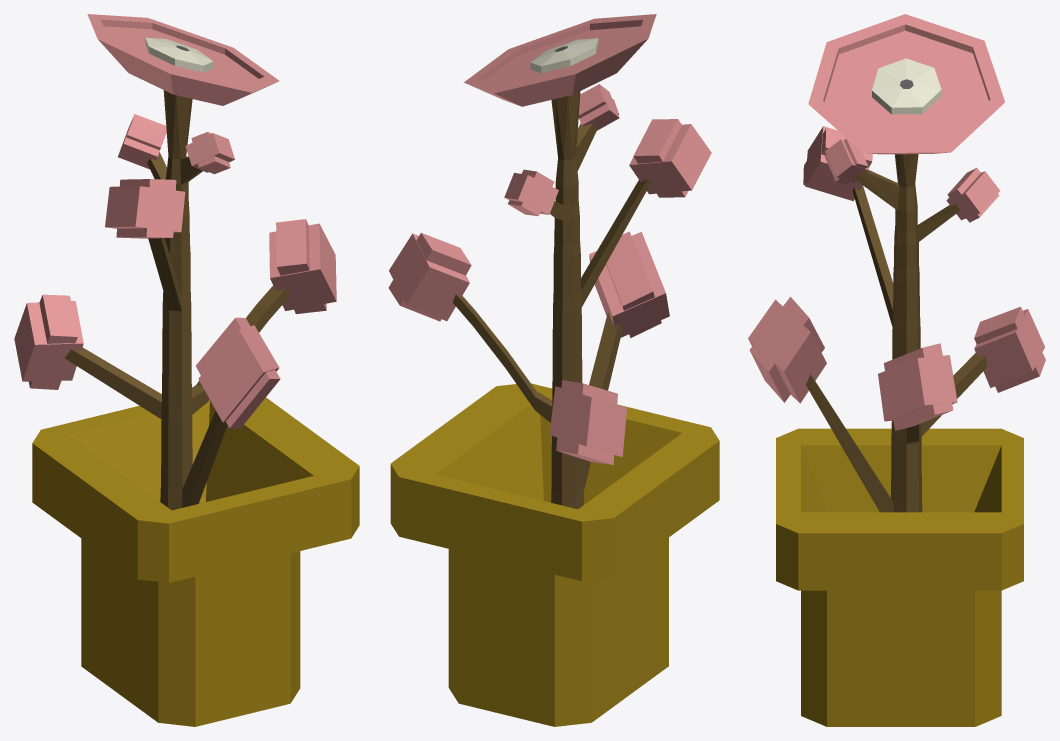
The model's file is Decoration_Plant.fbx.
3 renders of one model, left to right at view 1: azimuth 30°, elevation 25°; view 2: azimuth 150°, elevation 25°; view 3: azimuth 270°, elevation 25°, orthographic. The views are drawn at different scales.
Parts seen in each view (by area): view 1: pCube162; view 2: pCube162; view 3: pCube162.
Part boxes in pixels (x1,y1,x2,y2): pCube162: (14,14,359,726); pCube162: (388,14,719,726); pCube162: (748,14,1045,726).
Size of the model in its own units: 67.7 by 156 by 66.26.
